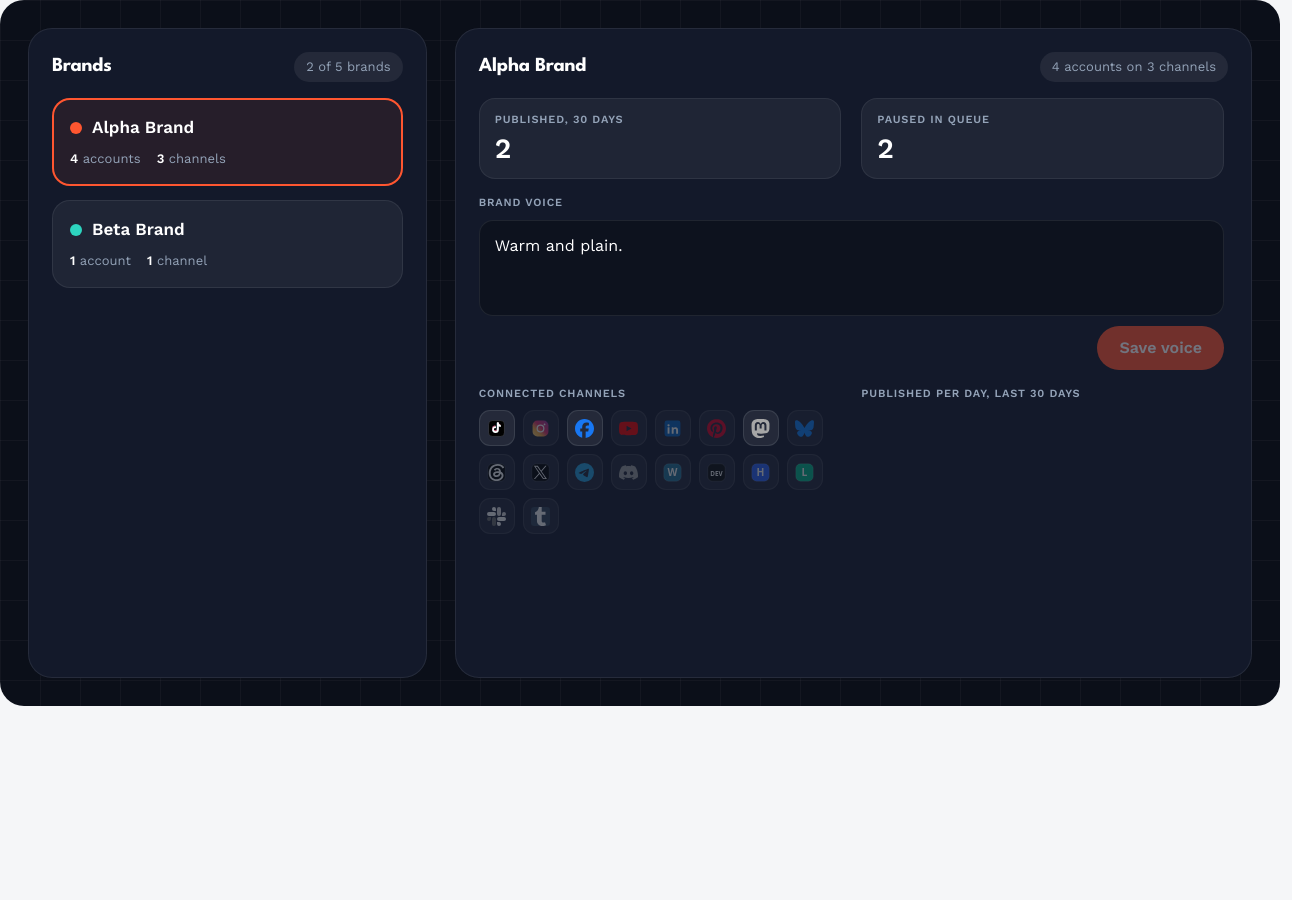
Test: brand cards › switches the workspace to the clicked brand
Click the button with test id "bp-card-Beta Brand". click: (138, 229)
box: [52,200,403,288]
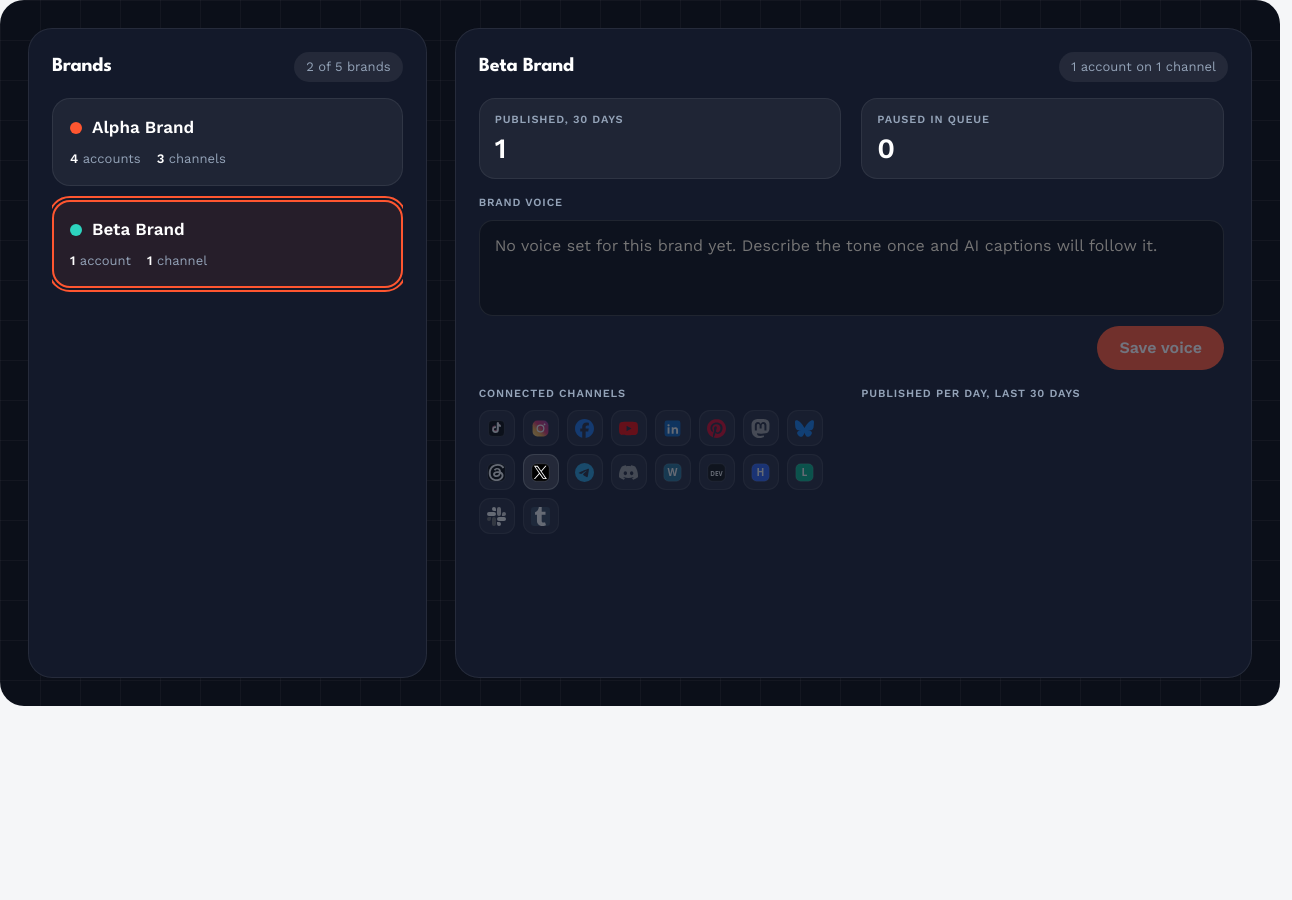
Now the heading "Beta Brand" is shown, box [479,55,574,78]
